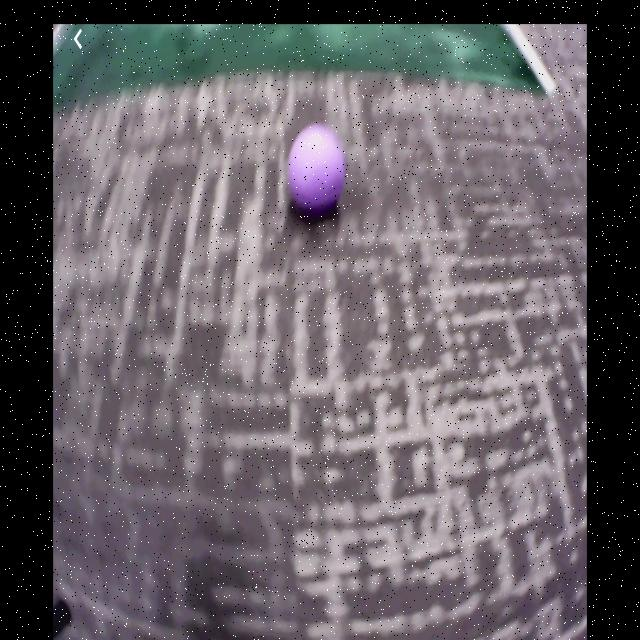ball: (289, 126, 346, 209)
